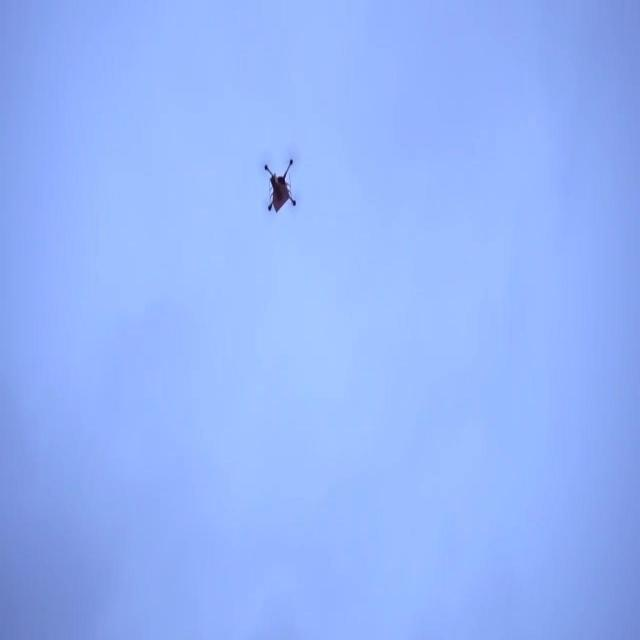UAV: (264, 159, 296, 213)
